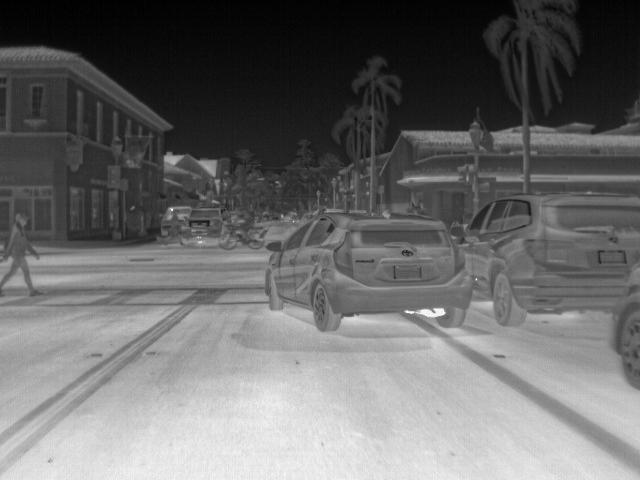car: (266, 206, 479, 328), (450, 192, 639, 326), (610, 284, 637, 392), (191, 207, 226, 235), (159, 206, 193, 234)
person: (0, 211, 44, 297), (234, 206, 255, 243)
